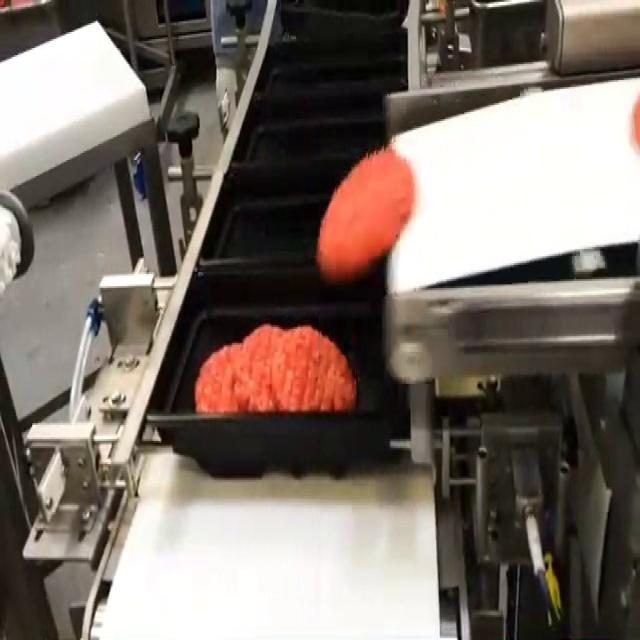hamburguer: (316, 146, 415, 281)
